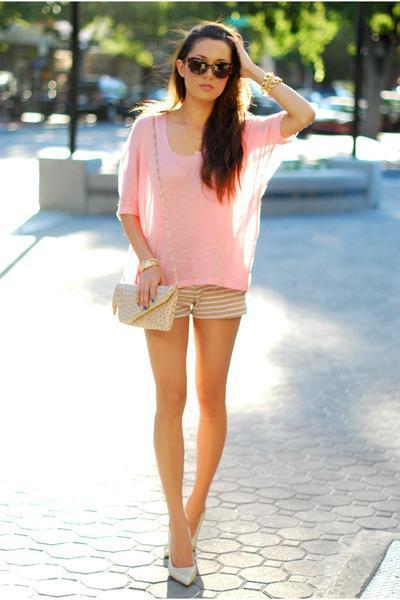Shorts: (123, 269, 250, 319)
short sleeve shirt: (117, 106, 289, 291)
